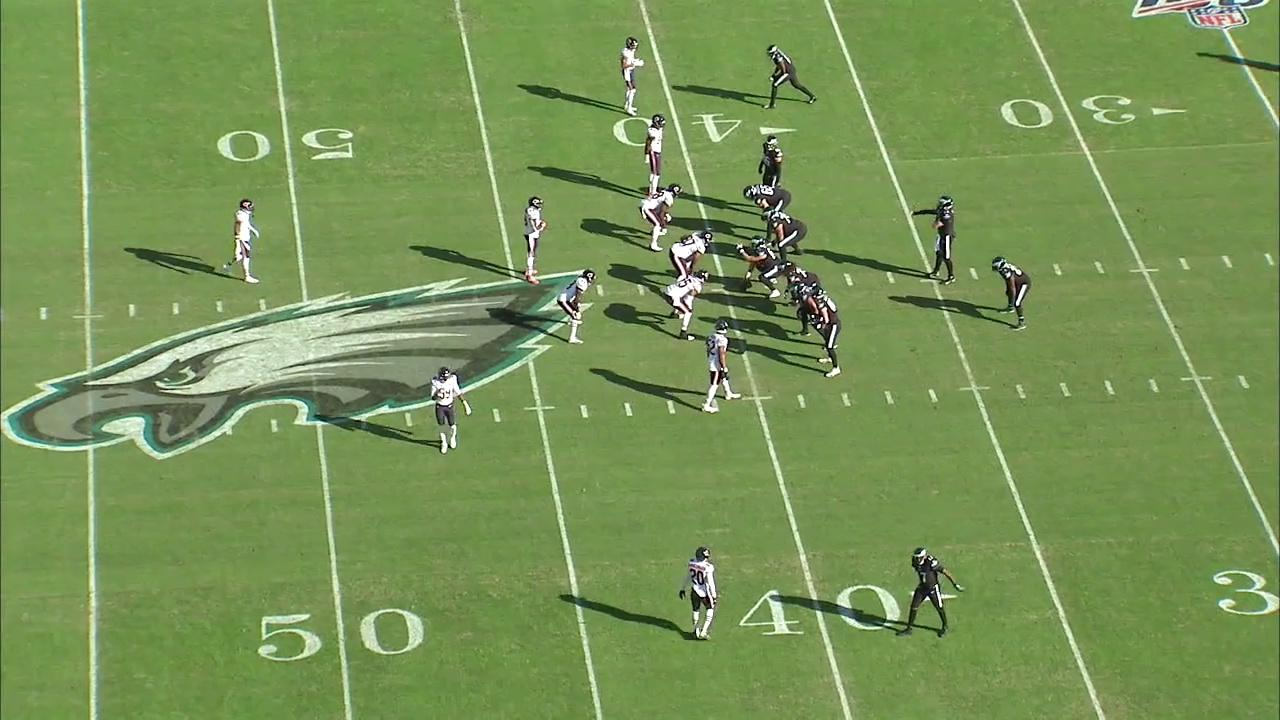player: (893, 549, 966, 643), (910, 192, 965, 286), (217, 193, 265, 291), (427, 364, 475, 460), (677, 542, 720, 645), (704, 316, 745, 417), (760, 41, 818, 112), (988, 254, 1037, 336), (808, 285, 847, 383), (661, 268, 709, 346), (637, 181, 687, 253), (731, 235, 784, 301), (789, 282, 839, 350), (557, 268, 597, 347), (741, 182, 791, 245), (517, 191, 549, 287), (641, 110, 674, 196), (666, 226, 717, 279), (760, 206, 808, 262), (776, 259, 822, 312), (620, 34, 648, 119), (757, 134, 786, 190)
